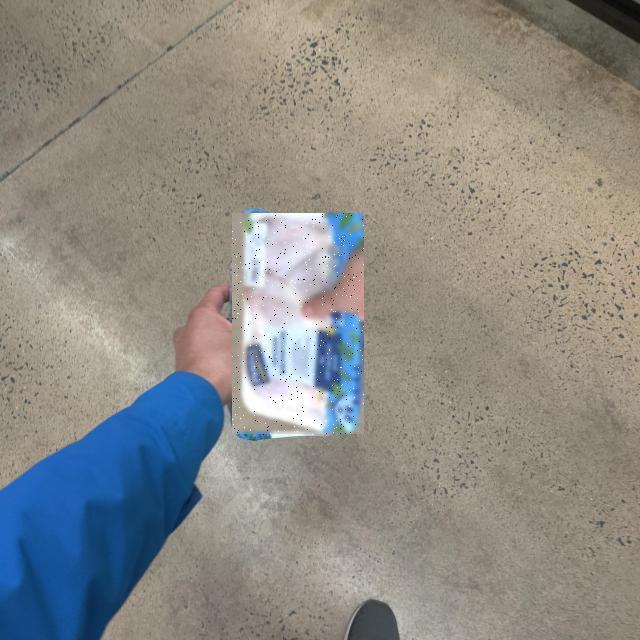Meat: (232, 214, 364, 436)
